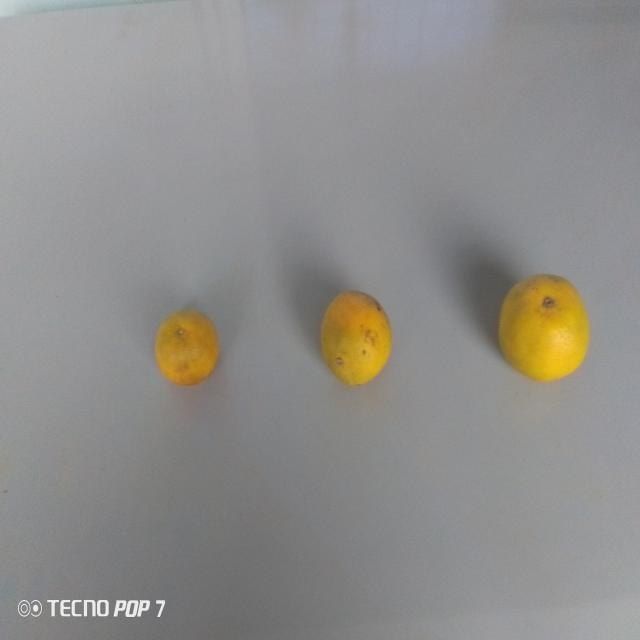agrume: (494, 266, 594, 389), (314, 287, 397, 389), (153, 299, 227, 393)
